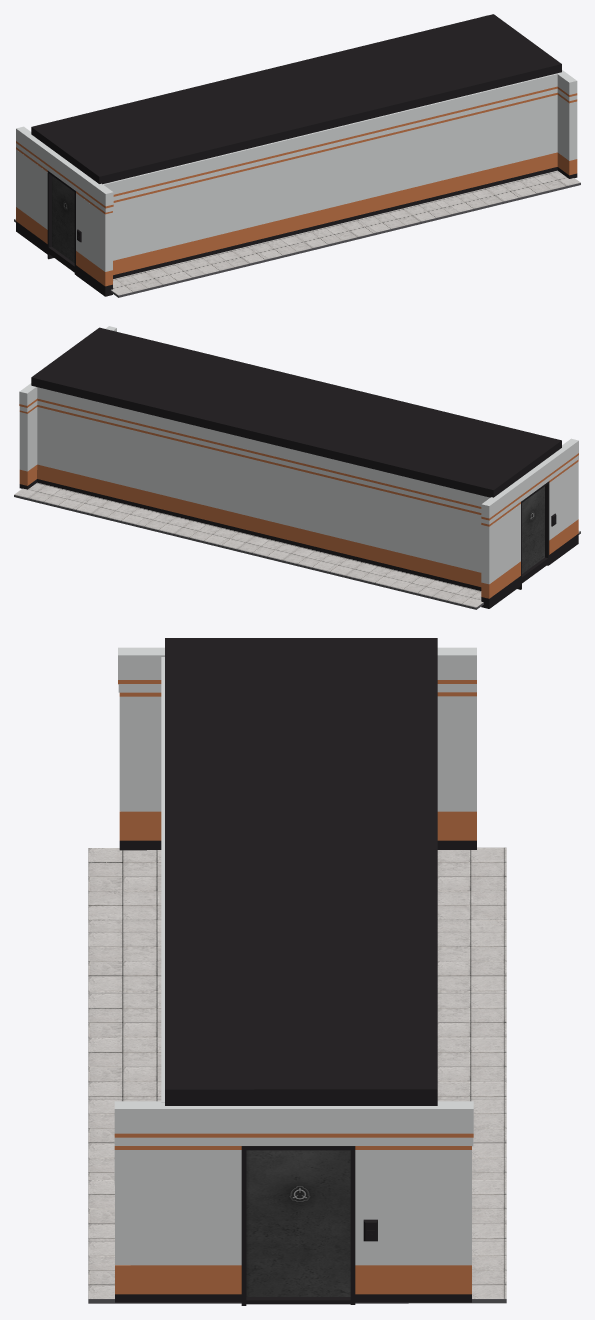
File: SCP Room 5.obj
The picture shows the model from 3 angles, top to bottom: view 1: azimuth 30°, elevation 25°; view 2: azimuth 150°, elevation 25°; view 3: azimuth 270°, elevation 25°; orthographic projection. The views are drawn at different scales.
Visible parts, largest first — view 1: Part19, Part120, Part122, Part117, Part118, Part130, Part119, Part140, Part139, Door6, Part61, Part104 (+14 smaller); view 2: Part19, Part112, Part110, Part116, Part140, Part115, Part113, Part139, Part130, Door6, Part63, Part111 (+13 smaller); view 3: Part19, Door3, Part104, Part97, Part98, Part61, Part63, Part130, Part140, Part101, Part102, Part39 (+29 smaller).
Part boxes in pixels (x1,y1,x2,y2): Part19: (31, 14, 561, 184); Part120: (113, 95, 557, 260); Part122: (113, 152, 557, 275); Part117: (103, 73, 558, 194); Part118: (113, 88, 557, 200); Part130: (76, 193, 112, 271); Part119: (113, 167, 557, 278); Part140: (16, 149, 47, 229); Part139: (16, 126, 113, 206); Door6: (52, 176, 74, 262); Part61: (111, 261, 204, 295); Part104: (557, 95, 577, 160); Part19: (31, 327, 561, 497); Part112: (37, 407, 481, 572); Part110: (37, 464, 481, 586); Part116: (37, 387, 489, 506); Part140: (481, 504, 520, 584); Part115: (37, 400, 481, 512); Part113: (37, 479, 481, 590); Part139: (481, 438, 578, 518); Part130: (549, 461, 578, 540); Door6: (522, 486, 544, 573); Part63: (390, 573, 483, 607); Part111: (37, 398, 481, 508); Part19: (165, 638, 437, 1105); Door3: (246, 1150, 350, 1296); Part104: (114, 1150, 241, 1265); Part97: (355, 1150, 471, 1265); Part98: (114, 1101, 473, 1133); Part61: (88, 848, 161, 932); Part63: (437, 847, 506, 932); Part130: (119, 696, 161, 811); Part140: (437, 696, 476, 811); Part101: (115, 1265, 241, 1294); Part102: (355, 1265, 471, 1294); Part39: (88, 993, 161, 1037).
Size of the model in its own units: 48.26 by 11.1 by 18.4.
Materials: 8 (2 with a texture image).
